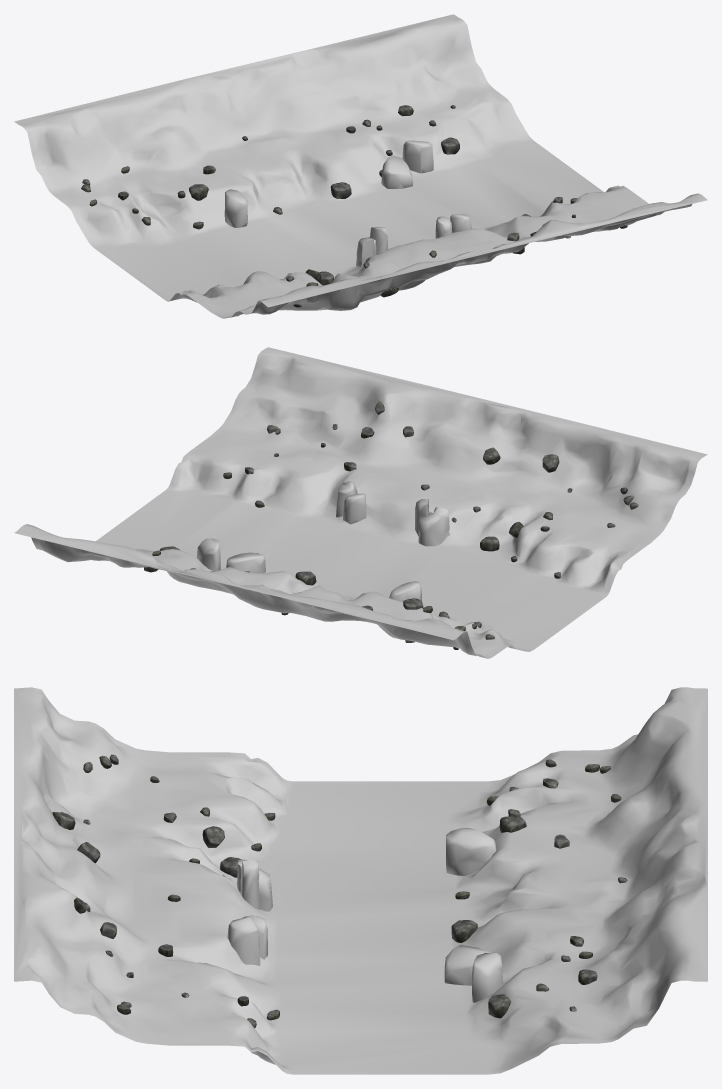
File: valley.fbx
The picture shows the model from 3 angles, top to bottom: view 1: azimuth 30°, elevation 25°; view 2: azimuth 150°, elevation 25°; view 3: azimuth 270°, elevation 25°; orthographic projection. The views are drawn at different scales.
Parts seen in each view (by area): view 1: terraintilled_terraintilled_0, rocks_tinyrocks_0, smallrock4_smallrocks_0, smallrock3_smallrocks_0, smallrock7_smallrocks_0; view 2: terraintilled_terraintilled_0, rocks_tinyrocks_0, smallrock8_smallrocks_0, smallrock3_smallrocks_0, smallrock4_smallrocks_0, smallrock1_smallrocks_0, smallrock7_smallrocks_0; view 3: terraintilled_terraintilled_0, rocks_tinyrocks_0, smallrock7_smallrocks_0, smallrock4_smallrocks_0, smallrock2_smallrocks_0, smallrock3_smallrocks_0, smallrock9_smallrocks_0, smallrock8_smallrocks_0.
Boxes of the visible parts, x1,y1,x2,y2 form: terraintilled_terraintilled_0: (14, 14, 707, 318); rocks_tinyrocks_0: (81, 105, 627, 307); smallrock4_smallrocks_0: (402, 140, 433, 173); smallrock3_smallrocks_0: (381, 155, 412, 188); smallrock7_smallrocks_0: (224, 189, 247, 227); terraintilled_terraintilled_0: (14, 347, 707, 658); rocks_tinyrocks_0: (144, 401, 638, 649); smallrock8_smallrocks_0: (418, 507, 449, 546); smallrock3_smallrocks_0: (226, 552, 265, 572); smallrock4_smallrocks_0: (196, 538, 220, 571); smallrock1_smallrocks_0: (343, 493, 366, 524); smallrock7_smallrocks_0: (389, 581, 421, 601); terraintilled_terraintilled_0: (14, 687, 707, 1074); rocks_tinyrocks_0: (52, 754, 627, 1028); smallrock7_smallrocks_0: (446, 828, 496, 875); smallrock4_smallrocks_0: (472, 952, 503, 1002); smallrock2_smallrocks_0: (227, 917, 260, 965); smallrock3_smallrocks_0: (444, 945, 489, 985); smallrock9_smallrocks_0: (240, 860, 259, 909); smallrock8_smallrocks_0: (237, 859, 272, 911).
Bounding box in the file's own units: 2454 × 390 × 2454.
